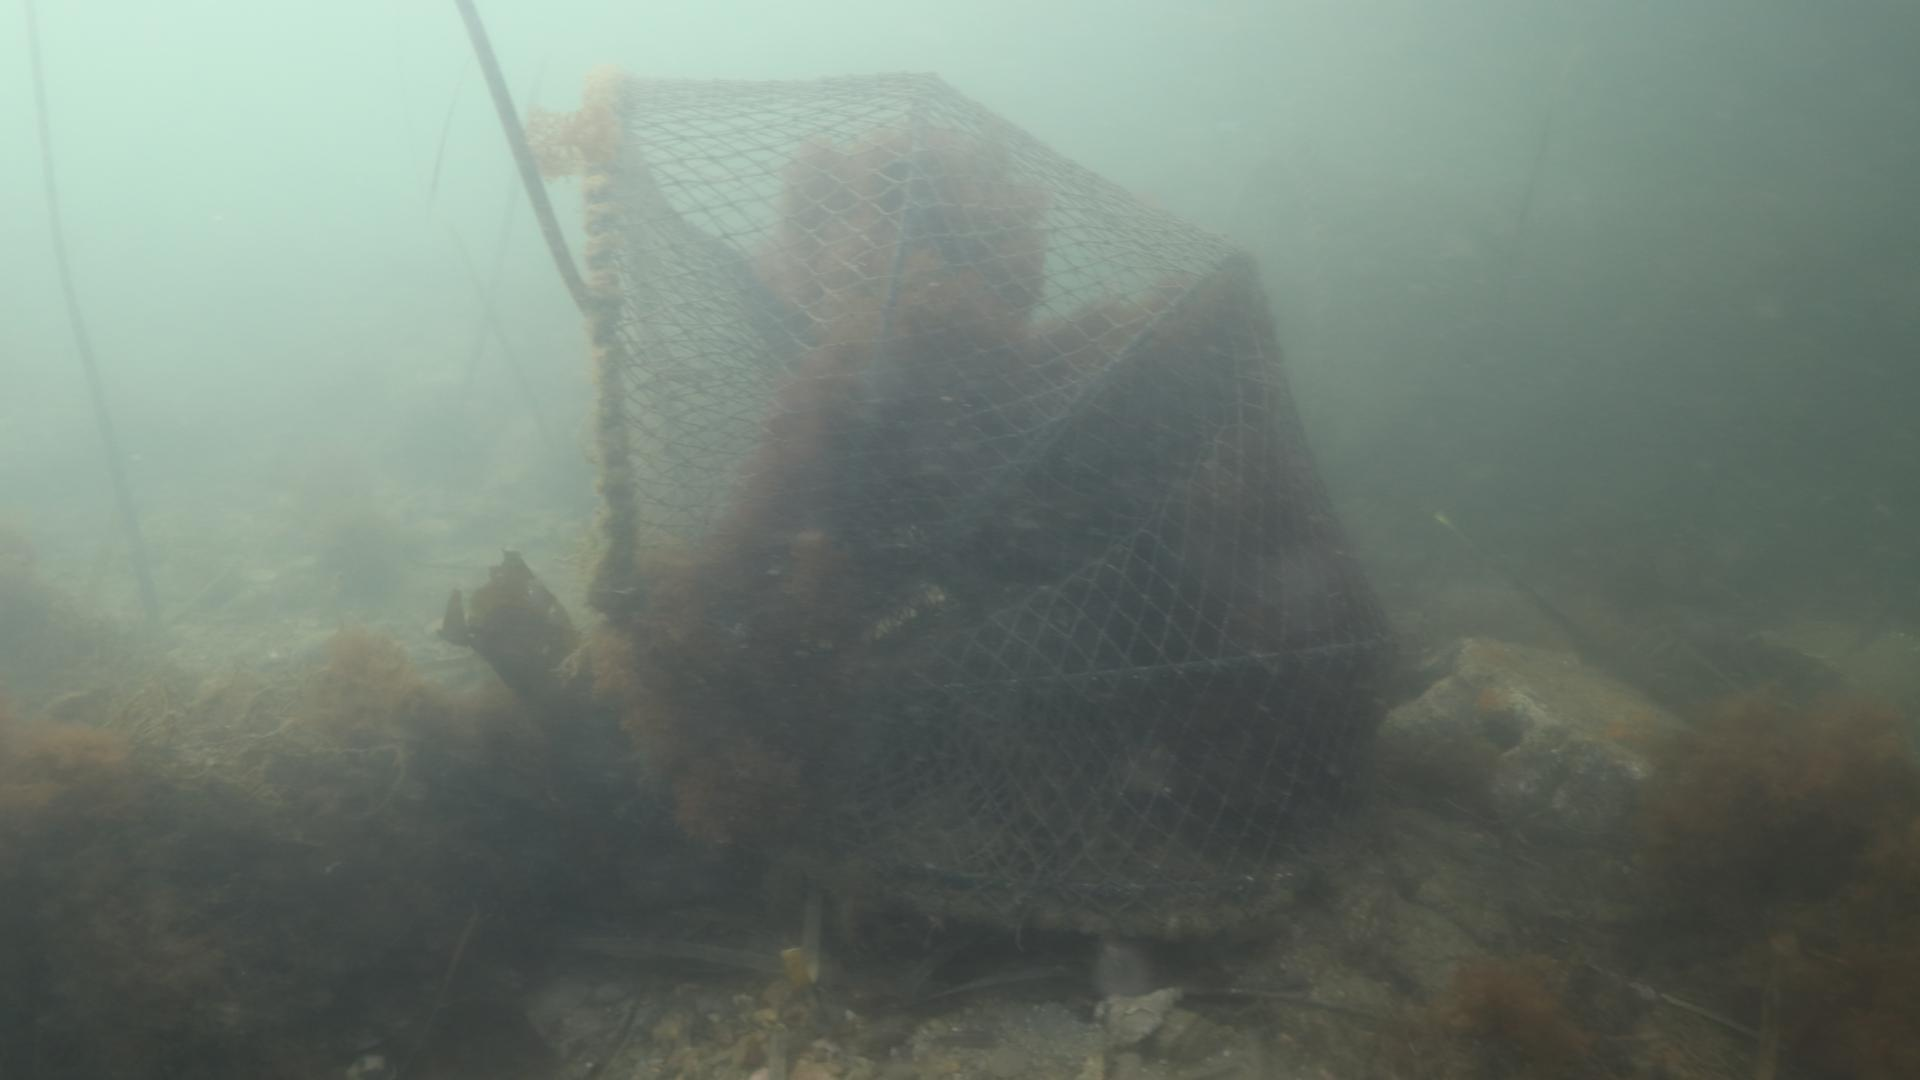spring fish trap: (584, 66, 1399, 939)
